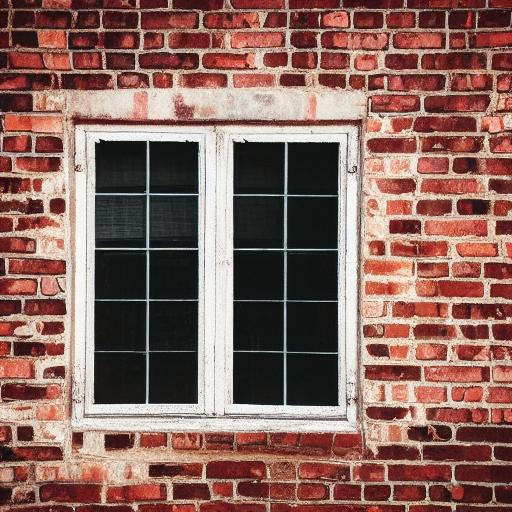Window: (34, 87, 369, 437)
